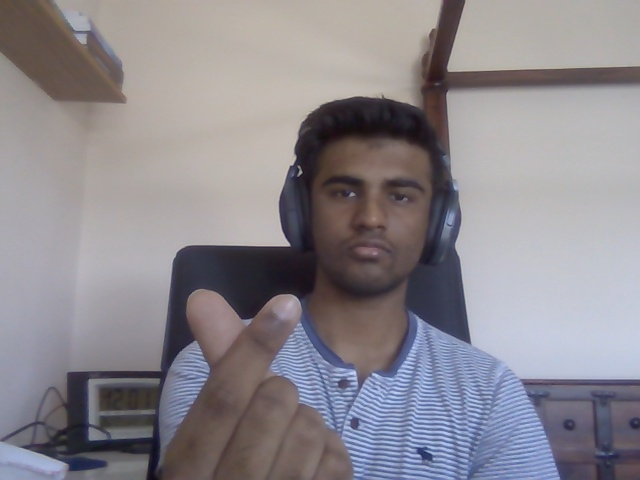Heart: (166, 290, 351, 480)
